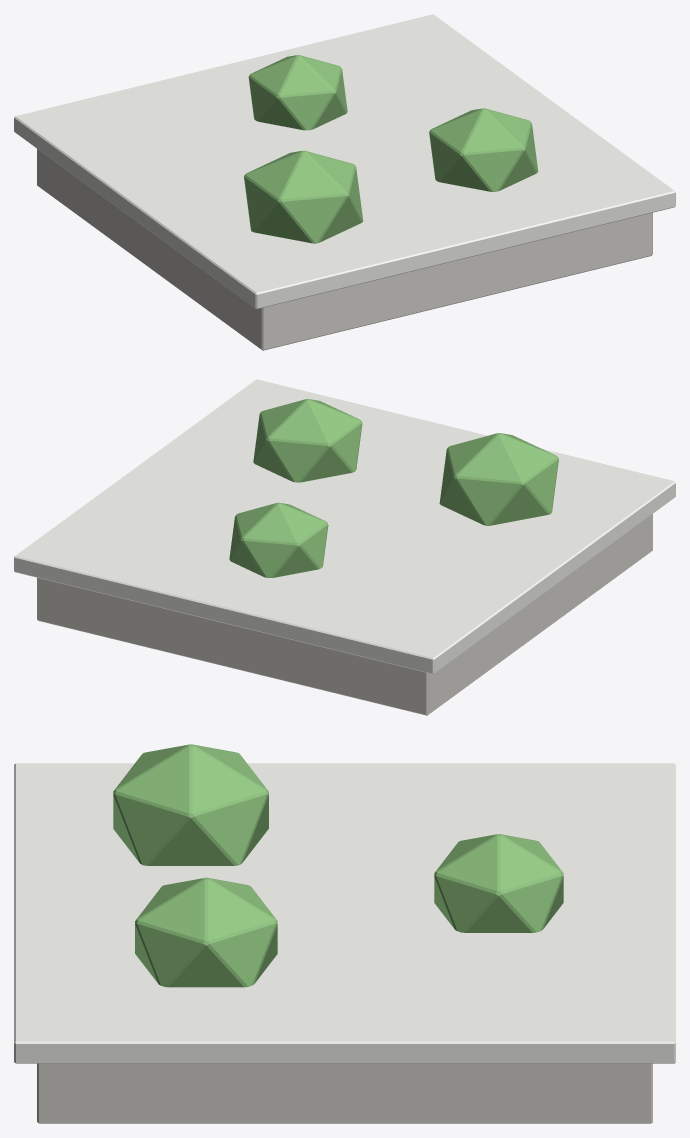
3 views of the same model, one above another, from view 1: azimuth 30°, elevation 25°; view 2: azimuth 150°, elevation 25°; view 3: azimuth 270°, elevation 25° (orthographic). The views are drawn at different scales.
Parts seen in each view (by area): view 1: 池沿.001, 池体, 绿植; view 2: 池沿.001, 池体, 绿植; view 3: 池沿.001, 绿植, 池体.
Boxes of the visible parts, x1,y1,x2,y2 form: 池沿.001: [14, 14, 675, 309]; 池体: [37, 149, 652, 350]; 绿植: [244, 55, 538, 243]; 池沿.001: [14, 379, 675, 674]; 池体: [37, 514, 652, 715]; 绿植: [229, 399, 558, 577]; 池沿.001: [14, 763, 675, 1063]; 绿植: [113, 744, 563, 987]; 池体: [37, 1063, 652, 1123].
Bounding box in the file's own units: 430 × 132 × 430.
